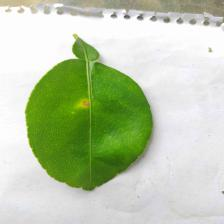canker: (69, 88, 98, 118)
